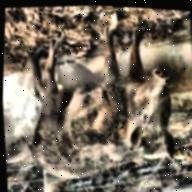boar: (10, 19, 192, 192)
